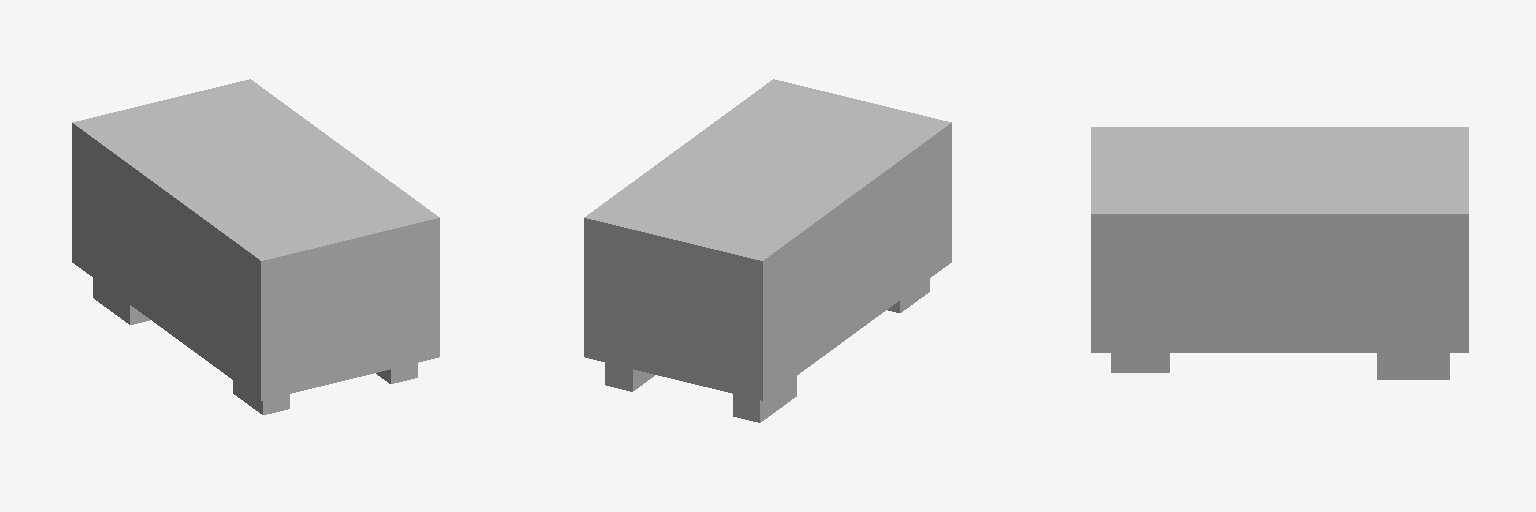
The model's file is carCollision.obj.
3 views of the same model, side by side, from view 1: azimuth 30°, elevation 25°; view 2: azimuth 150°, elevation 25°; view 3: azimuth 270°, elevation 25° (orthographic).
Parts seen in each view (by area): view 1: Cube.002_Cube.003, Cube.003_Cube; view 2: Cube.002_Cube.003, Cube.003_Cube; view 3: Cube.002_Cube.003, Cube.003_Cube.
Part boxes in pixels (x1,y1,x2,y2): Cube.002_Cube.003: (72,79,439,400); Cube.003_Cube: (93,278,417,414); Cube.002_Cube.003: (584,79,951,400); Cube.003_Cube: (605,279,929,422); Cube.002_Cube.003: (1091,127,1468,352); Cube.003_Cube: (1111,353,1449,379).
Bounding box in the file's own units: 2.28 × 2.1 × 4.2.